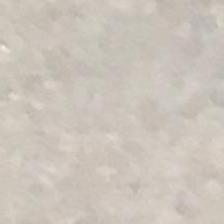Non_Crack: (37, 19, 224, 185)
